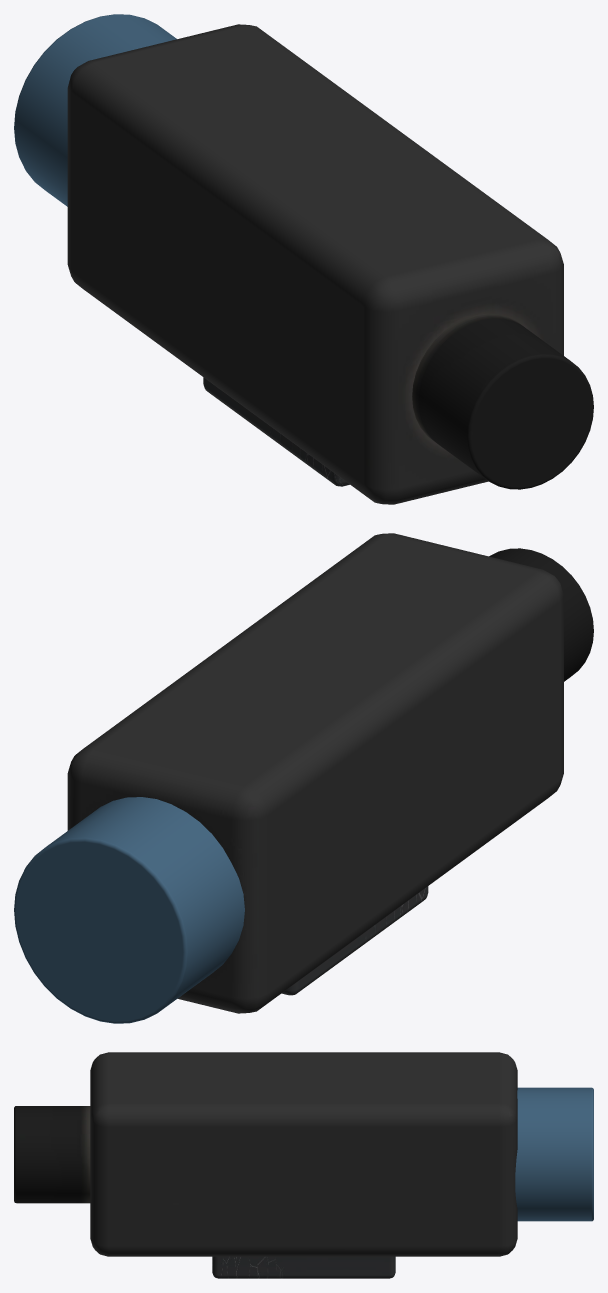
Rendered from thermal.gltf.
The picture shows the model from 3 angles, top to bottom: view 1: azimuth 30°, elevation 25°; view 2: azimuth 150°, elevation 25°; view 3: azimuth 270°, elevation 25°; orthographic projection. The views are drawn at different scales.
Visible parts, largest first — view 1: Frame, Lens; view 2: Frame, Lens; view 3: Frame, Lens.
Boxes of the visible parts, box(x1,y1,x2,y2) form: Frame: box(67, 24, 593, 504); Lens: box(14, 14, 176, 206); Frame: box(67, 533, 593, 1013); Lens: box(14, 797, 244, 1023); Frame: box(14, 1052, 517, 1278); Lens: box(515, 1087, 593, 1221).
Size of the model in its own units: 0.05 by 0.0675 by 0.19.
Materials: 4 (3 with a texture image).
